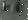person: (19, 4, 24, 17), (5, 2, 11, 12)
